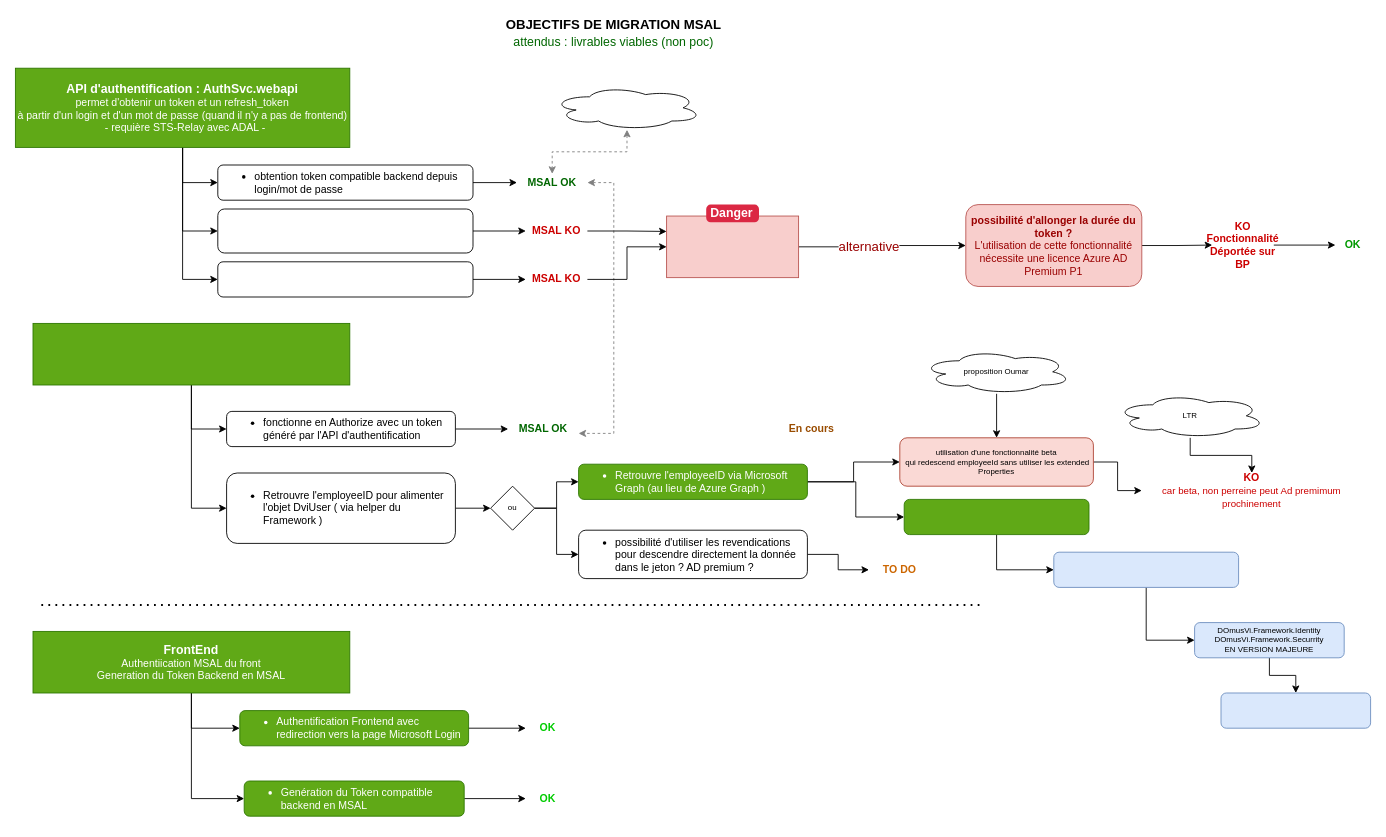
This 1386x837 diagram has some shape labels left out. The shapes that lost their labels are listed below. From the top down, each one's box as (x1, y1, x2, y2) in pixels, then its label:
(551, 85, 702, 130): débloqué LTR le 03/07
(217, 208, 473, 253): obtention refresh_token depuis login/mot de passe
(666, 215, 799, 278): Remplacement du mecanisme de renouvellement par la master
(217, 261, 473, 297): obtention token depuis un refresh_token
(32, 323, 350, 385): Backend API passe l' [Authorize] permet de retrouver l'employeeID
(903, 499, 1089, 535): utilisation des extended properties standard via microsoft GRAPH
(1053, 551, 1239, 587): Refaire lea librairie dans le Framework
(1220, 692, 1371, 728): TESTER la artie DVIUSER
